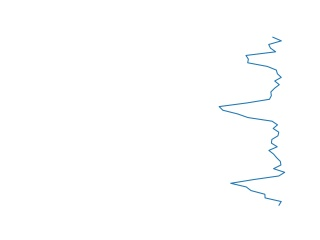underwaterNaturalLevee: (216, 36, 289, 207)
